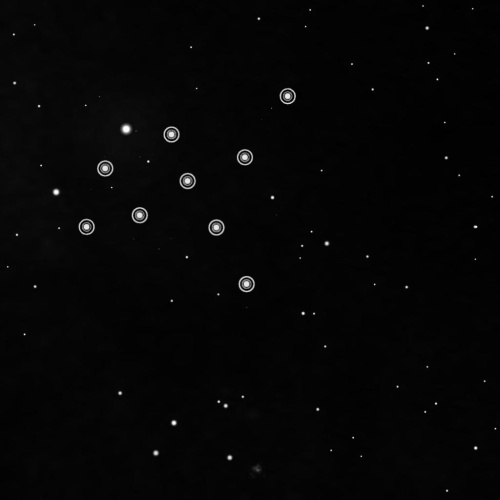cygnus: (69, 79, 304, 299)
